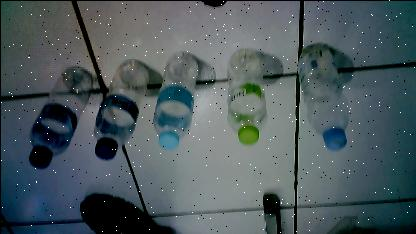Plastic Bottle: (28, 64, 90, 170), (296, 40, 348, 150), (93, 58, 147, 160), (152, 49, 198, 150), (226, 46, 266, 146)
